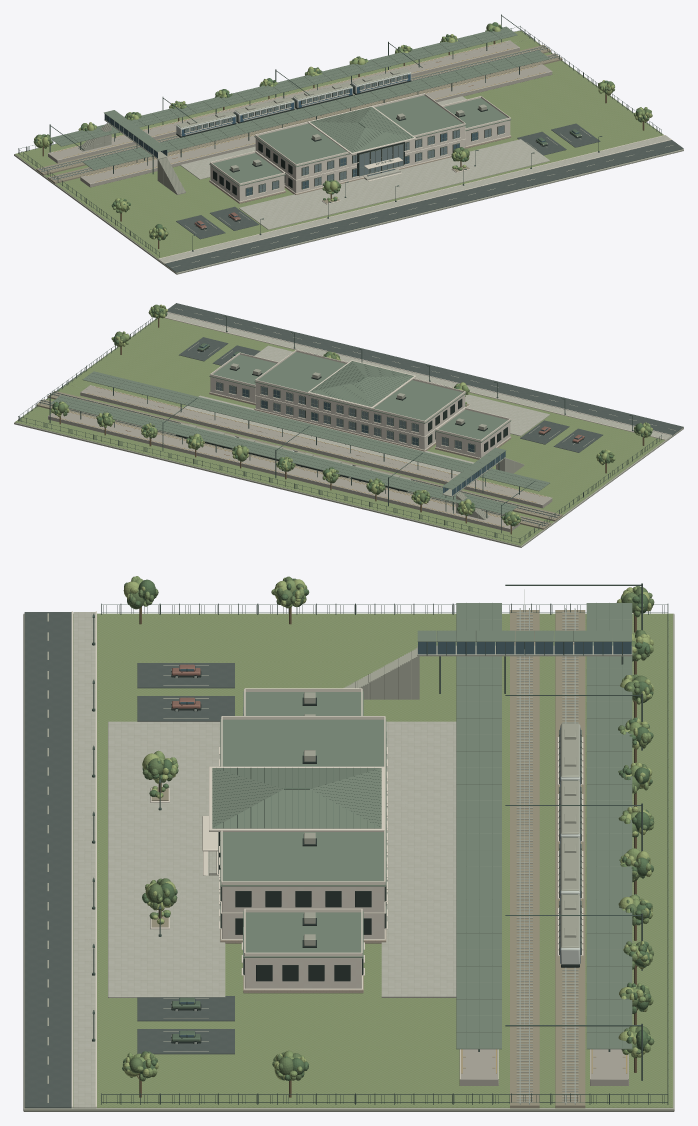
File: railway-intact.glb
3 renders of one model, top to bottom at view 1: azimuth 30°, elevation 25°; view 2: azimuth 150°, elevation 25°; view 3: azimuth 270°, elevation 25°, orthographic. The views are drawn at different scales.
Visible parts, largest first — view 1: 材质批次_grass, 材质批次_sage_metal_roof, 材质批次_plaza_paving, 材质批次_asphalt, 材质批次_railway_platform, 材质批次_warm_cream_trim, 材质批次_poi_service_concrete, 材质批次_limestone, 材质批次_planter_gravel, 材质批次_street_metal, 材质批次_poi_window_lit, 材质批次_window_frames (+12 smaller); view 2: 材质批次_grass, 材质批次_sage_metal_roof, 材质批次_railway_platform, 材质批次_asphalt, 材质批次_plaza_paving, 材质批次_warm_cream_trim, 材质批次_limestone, 材质批次_poi_service_concrete, 材质批次_street_metal, 材质批次_planter_gravel, 材质批次_railway_tactile, 材质批次_standing_seam (+10 smaller); view 3: 材质批次_grass, 材质批次_sage_metal_roof, 材质批次_plaza_paving, 材质批次_asphalt, 材质批次_planter_gravel, 材质批次_poi_service_concrete, 材质批次_warm_cream_trim, 材质批次_street_metal, 材质批次_limestone, 材质批次_standing_seam, 材质批次_leaf_1, 材质批次_recess_shadow (+11 smaller).
Boxes of the visible parts, x1,y1,x2,y2 form: 材质批次_grass: (15,30,663,258); 材质批次_sage_metal_roof: (50,26,549,186); 材质批次_plaza_paving: (158,96,670,263); 材质批次_asphalt: (165,123,683,272); 材质批次_railway_platform: (48,40,552,187); 材质批次_warm_cream_trim: (48,40,671,263); 材质批次_poi_service_concrete: (14,30,683,274); 材质批次_limestone: (210,120,510,204); 材质批次_planter_gravel: (36,45,562,203); 材质批次_street_metal: (18,14,661,257); 材质批次_poi_window_lit: (185,75,504,192); 材质批次_window_frames: (184,75,504,196); 材质批次_grass: (15,317,664,545); 材质批次_sage_metal_roof: (50,352,549,514); 材质批次_railway_platform: (48,385,552,531); 材质批次_asphalt: (167,303,683,452); 材质批次_plaza_paving: (165,312,671,474); 材质批次_warm_cream_trim: (48,312,671,528); 材质批次_limestone: (210,377,510,457); 材质批次_poi_service_concrete: (14,319,683,547); 材质批次_street_metal: (18,315,661,543); 材质批次_planter_gravel: (36,391,562,529); 材质批次_railway_tactile: (54,386,545,526); 材质批次_standing_seam: (53,361,545,512); 材质批次_grass: (73,613,672,1107); 材质批次_sage_metal_roof: (212,603,632,1049); 材质批次_plaza_paving: (73,612,456,1108); 材质批次_asphalt: (24,612,234,1108); 材质批次_planter_gravel: (151,610,585,1108); 材质批次_poi_service_concrete: (23,612,674,1111); 材质批次_warm_cream_trim: (71,611,628,1107); 材质批次_street_metal: (92,583,668,1104); 材质批次_limestone: (150,787,384,988); 材质批次_standing_seam: (212,603,622,1047); 材质批次_leaf_1: (123,576,654,1081); 材质批次_recess_shadow: (171,669,580,1043).
Bounding box in the file's own units: 180 × 12.97 × 100.
Materials: 32 (5 with a texture image).
